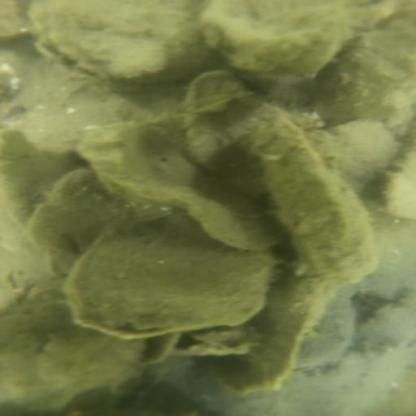Oyster-Closed: (60, 112, 287, 245), (64, 212, 276, 336), (255, 109, 377, 287), (200, 275, 342, 396), (29, 2, 214, 91), (205, 1, 391, 84), (182, 69, 283, 201), (318, 117, 403, 198)
